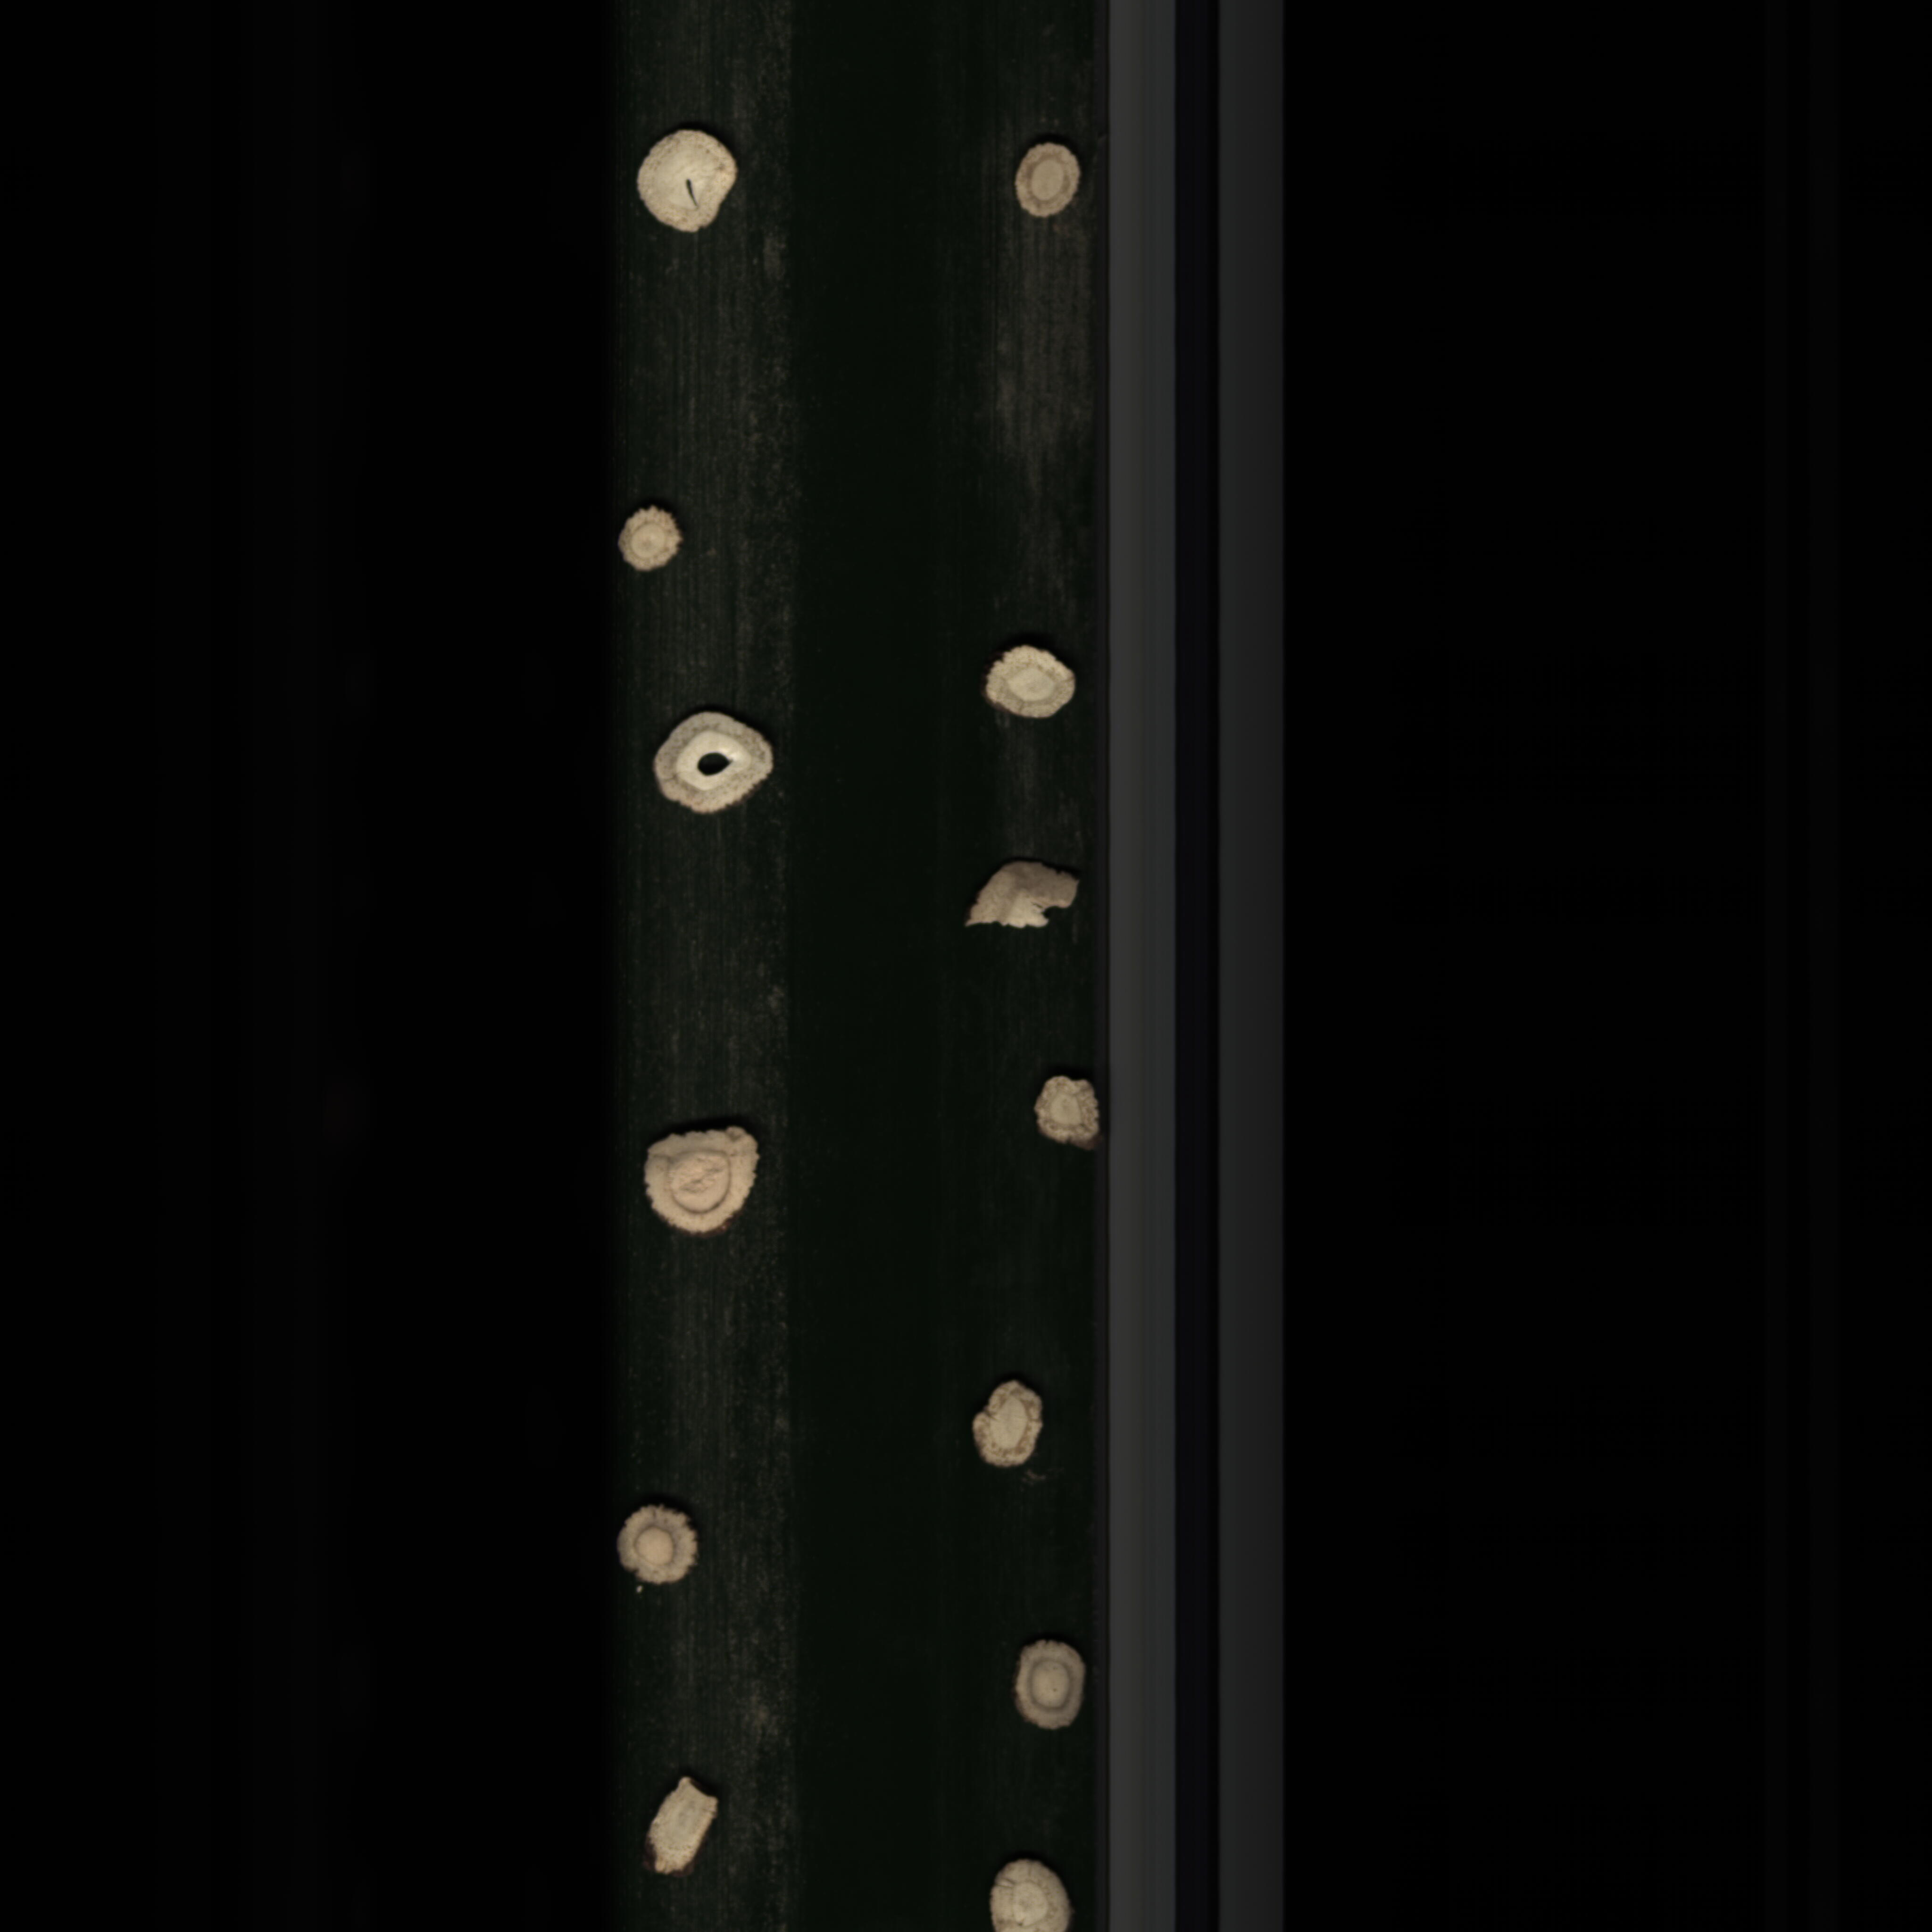debris: (955, 847, 1081, 947), (635, 1771, 743, 1886)
hole: (640, 702, 793, 826), (621, 122, 757, 246)
moldy: (1014, 136, 1088, 221)
